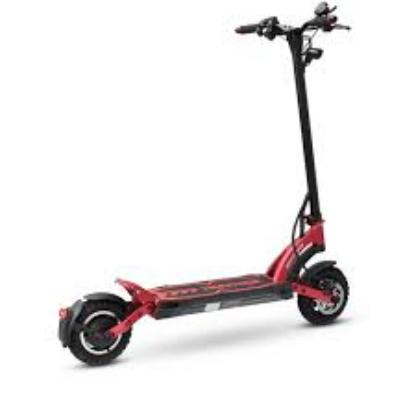bike: (57, 194, 351, 369)
